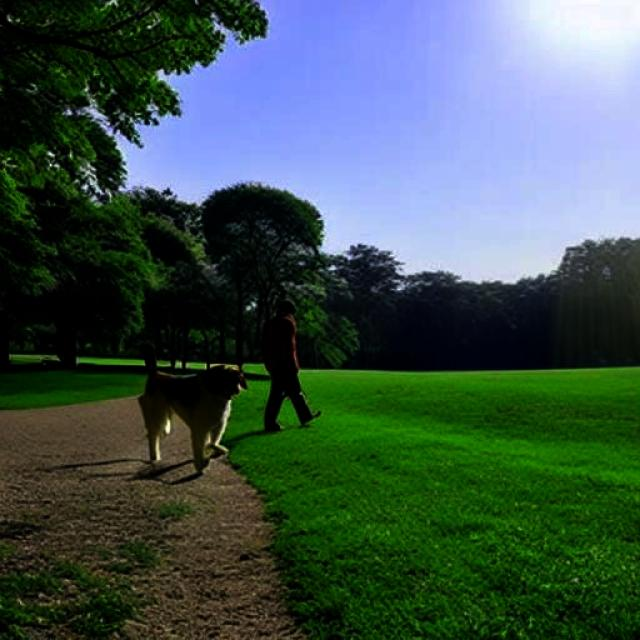Unleashed_Dog: (139, 343, 296, 475)
